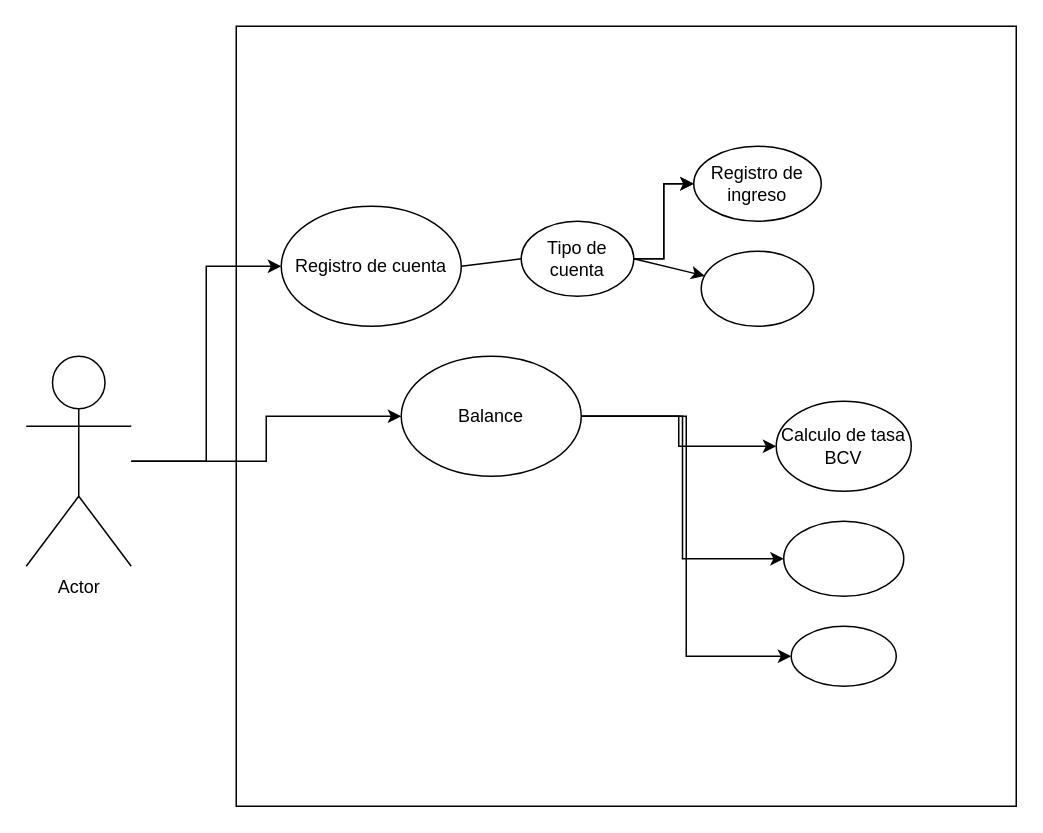
Image size: 1043x833. Some labels were removed from this diagram. The shapes that lost their labels are listed below. From the top down, each one's centre as x and y in pixels, then its label:
point (757, 288): Registro de gasto
point (843, 558): Historico
point (843, 655): Metricas
